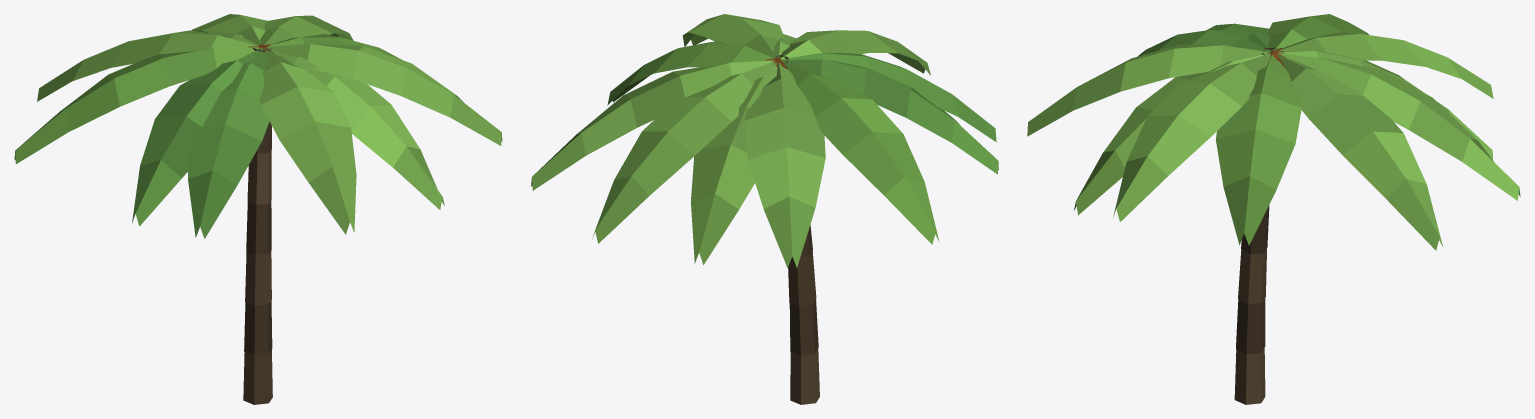
Rendered from tree_palm.glb.
3 views of the same model, side by side, from view 1: azimuth 30°, elevation 25°; view 2: azimuth 150°, elevation 25°; view 3: azimuth 270°, elevation 25° (orthographic). The views are drawn at different scales.
Visible parts, largest first — view 1: tree_palm; view 2: tree_palm; view 3: tree_palm.
Boxes of the visible parts, bbox=[...] form: tree_palm: bbox=[14, 14, 502, 404]; tree_palm: bbox=[531, 14, 998, 404]; tree_palm: bbox=[1027, 14, 1520, 404].
Size of the model in its own units: 6 by 5.17 by 6.41.
